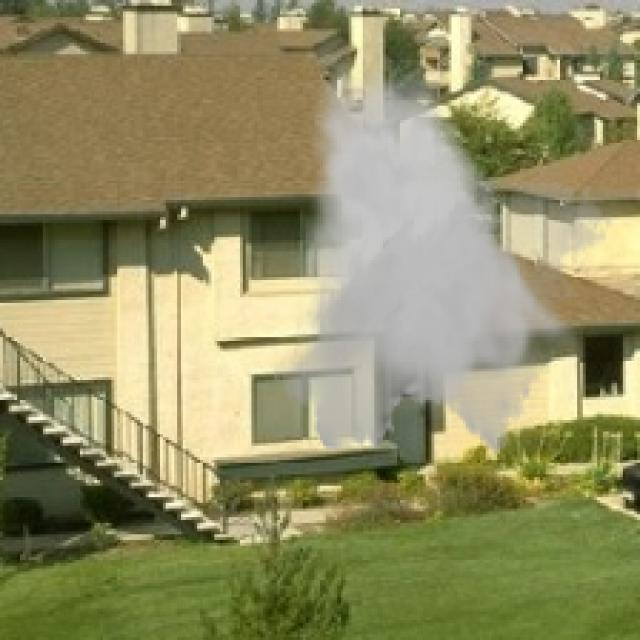smoke: (272, 51, 614, 463)
